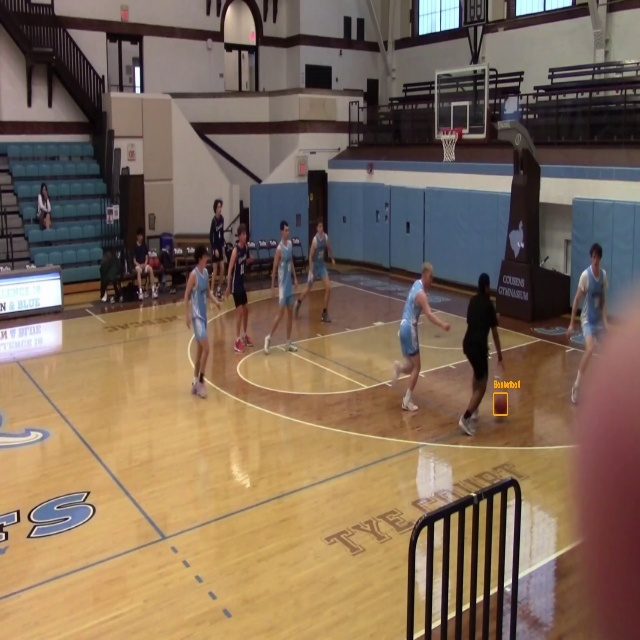Basketball: (494, 393, 507, 415)
